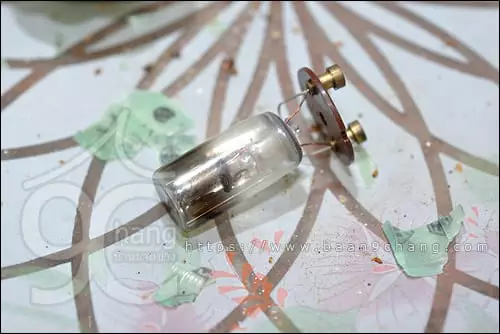Light_bulb: (146, 102, 320, 242)
